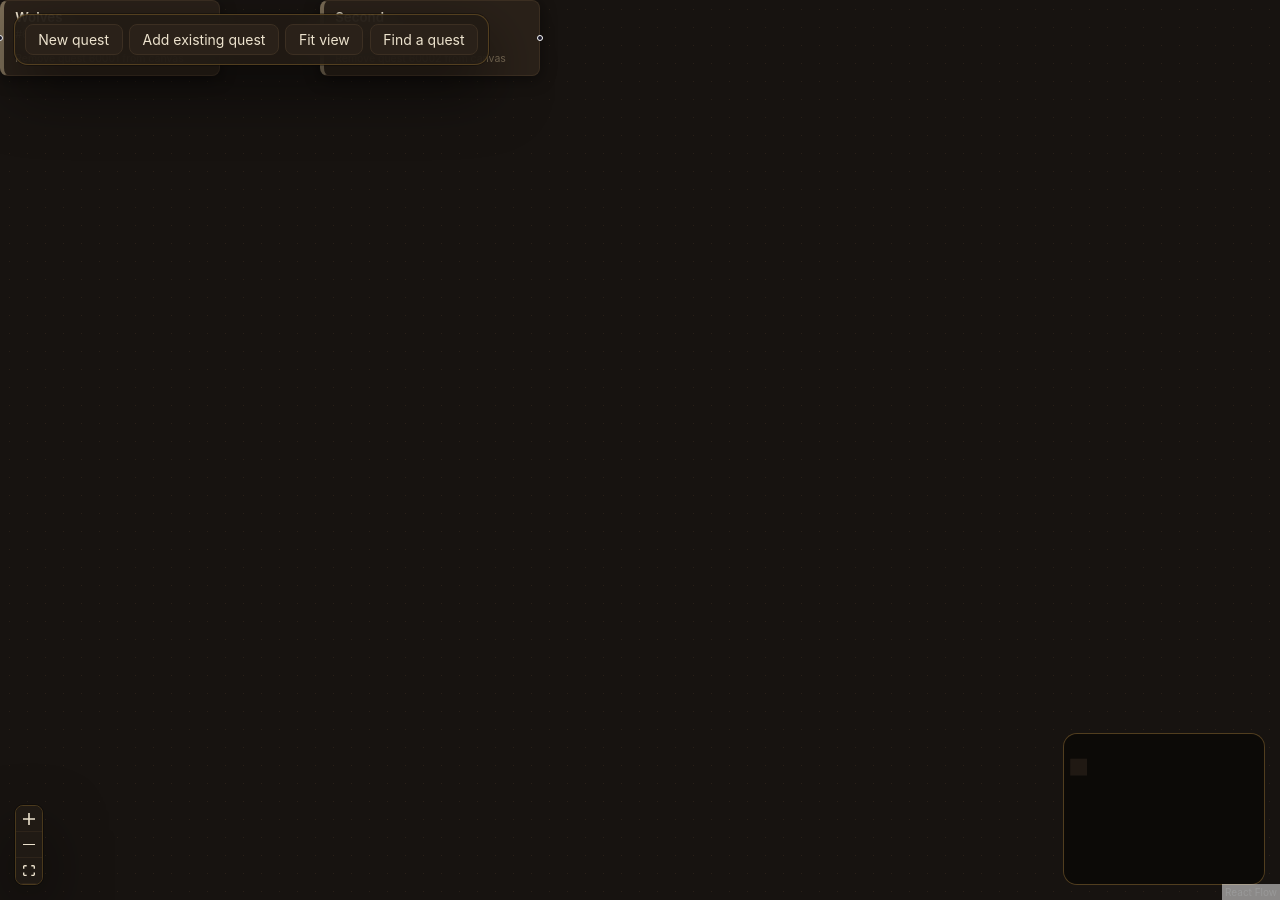
Test: ChainDock › the New quest button creates a node and opens it in the editor
What coordinates should you click on to do the following:
click the button "New quest"
I would click on:
 (74, 40)
Its box is [25,24,123,55].
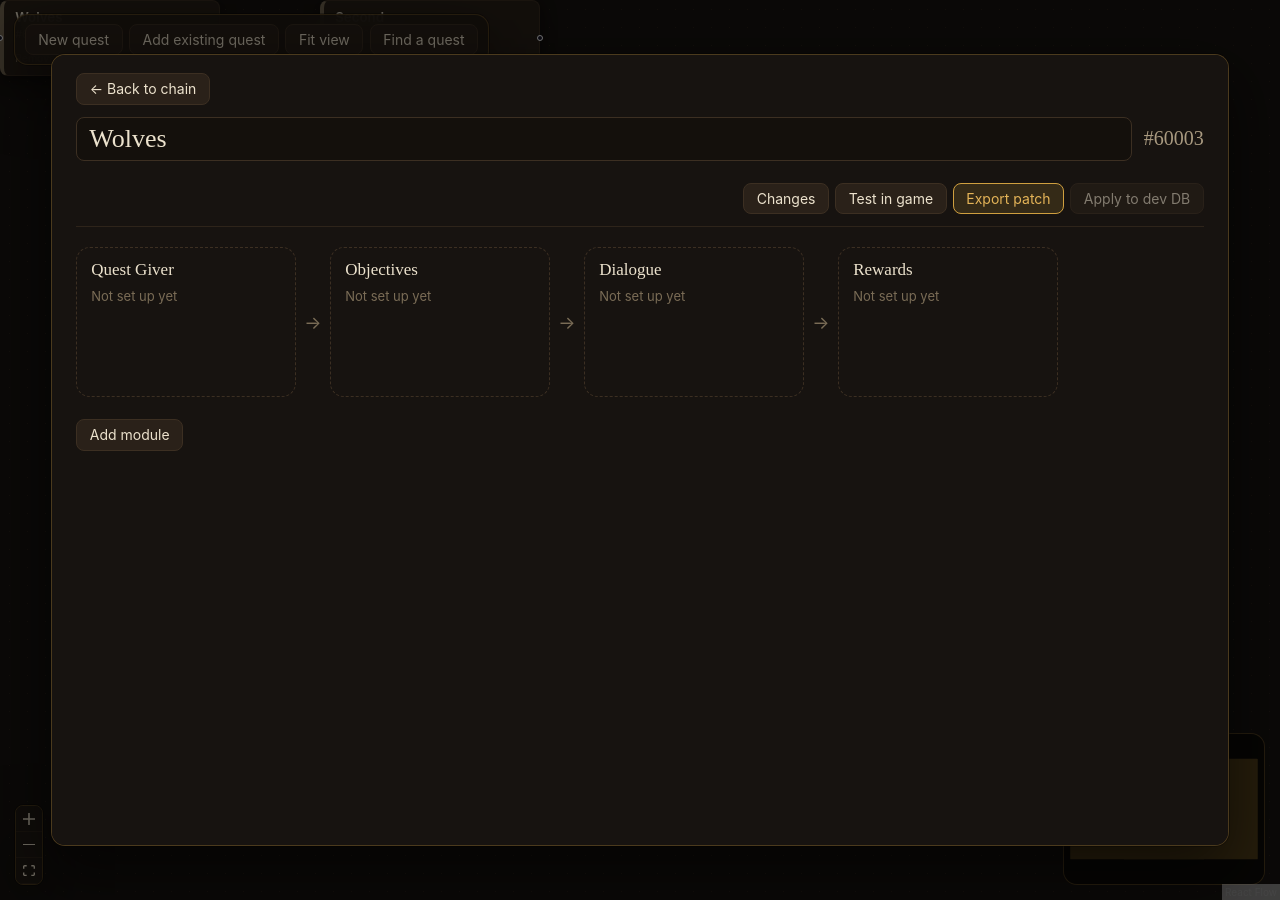
Now the list named "Modules" is shown, box [76,247,1204,397]
